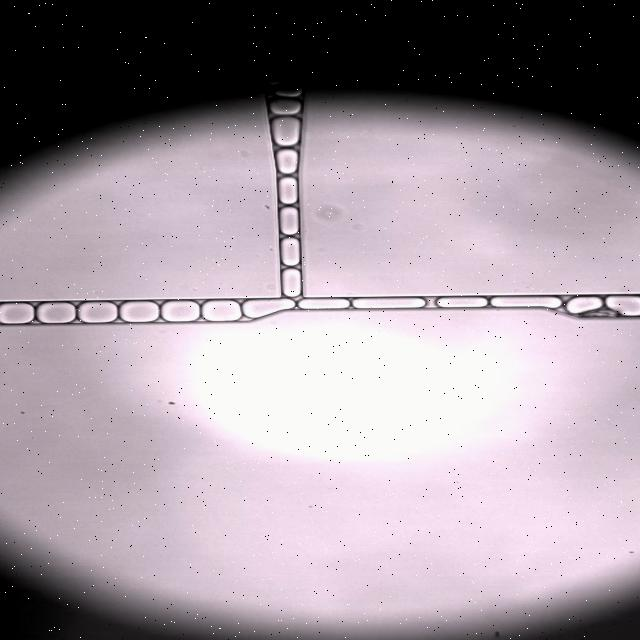L: (271, 117, 300, 147), (565, 297, 602, 314), (275, 149, 298, 174), (278, 177, 298, 204), (281, 238, 300, 266), (282, 269, 301, 297), (269, 99, 301, 115), (280, 207, 298, 235), (299, 299, 349, 309), (437, 297, 487, 307)
S: (242, 299, 294, 318), (77, 302, 118, 323), (36, 302, 76, 323), (491, 296, 561, 308), (120, 302, 159, 322), (162, 301, 200, 321), (203, 301, 241, 321), (353, 298, 425, 308), (0, 303, 34, 324), (605, 296, 640, 316)
